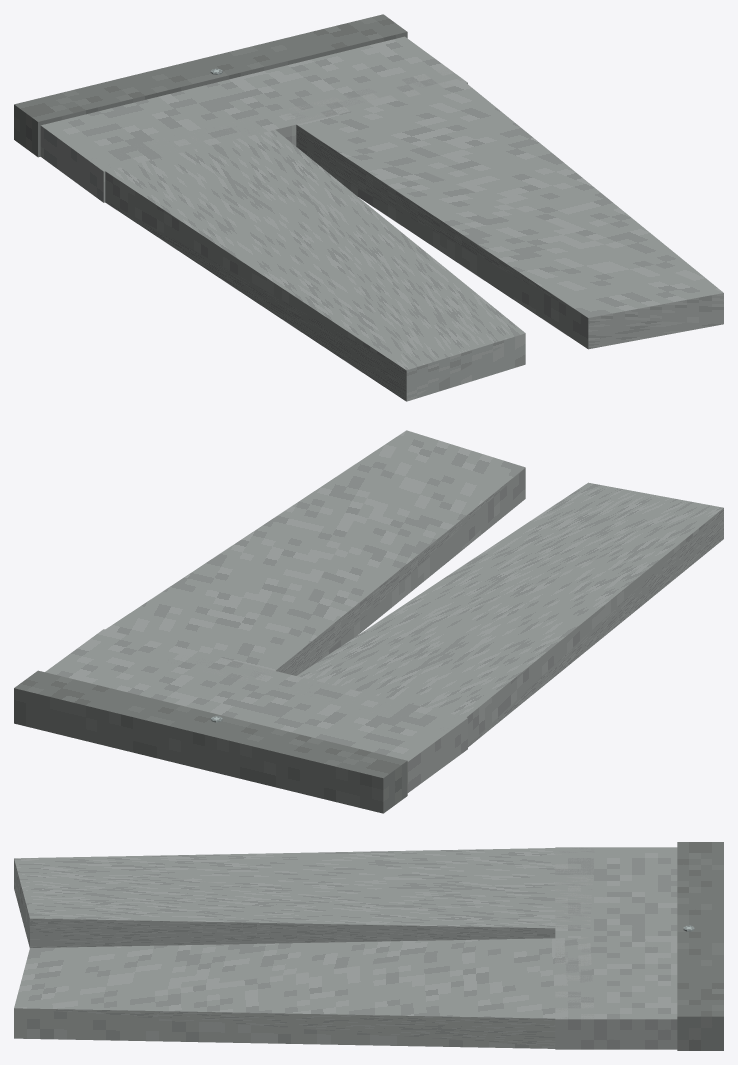
File: pants_hiking.glb
3 views of the same model, one above another, from view 1: azimuth 30°, elevation 25°; view 2: azimuth 150°, elevation 25°; view 3: azimuth 270°, elevation 25° (orthographic). The views are drawn at different scales.
Visible parts, largest first — view 1: block_leg 1, block_leg -1, block_seat, block_waistband; view 2: block_leg -1, block_leg 1, block_seat, block_waistband; view 3: block_leg 1, block_leg -1, block_seat, block_waistband.
Boxes of the visible parts, box(x1,y1,x2,y2) form: block_leg 1: box(278, 68, 723, 349); block_leg -1: box(86, 118, 525, 401); block_seat: box(40, 36, 467, 202); block_waistband: box(14, 14, 407, 157); block_leg -1: box(278, 482, 723, 747); block_leg 1: box(105, 430, 525, 683); block_seat: box(45, 629, 467, 792); block_waistband: box(14, 670, 407, 813); block_leg 1: box(14, 937, 593, 1048); block_leg -1: box(14, 847, 594, 947); block_seat: box(555, 847, 677, 1049); block_waistband: box(677, 842, 723, 1050).
Size of the model in its own units: 0.1648 by 0.0157 by 0.2832.
Materials: 1 (1 with a texture image).
